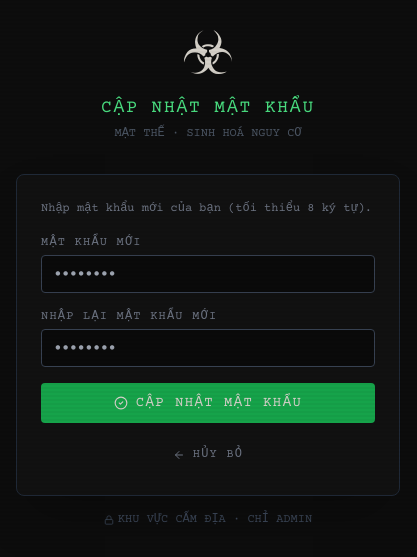
Test: AdminLoginPage Login & Recovery Flow › submits password update successfully and signs out
In the 1st password field with placeholder "••••••••": x=208, y=274 [41, 255, 375, 293], type "validpassword123"
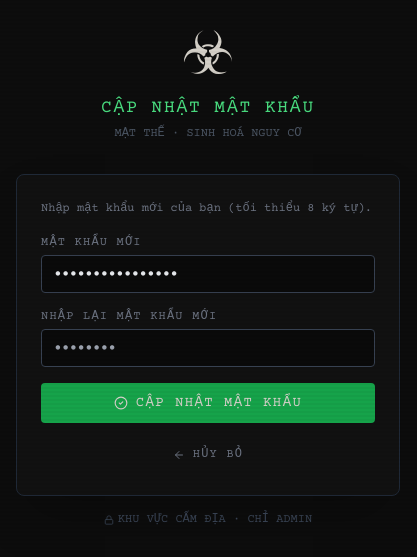
In the password field with placeholder "••••••••": x=208, y=348 [41, 329, 375, 367], type "validpassword123"
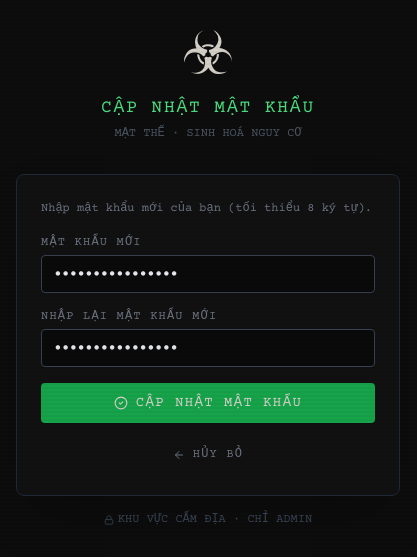
Click the button "CẬP NHẬT MẬT KHẨU": x=208, y=403 [41, 383, 375, 423]
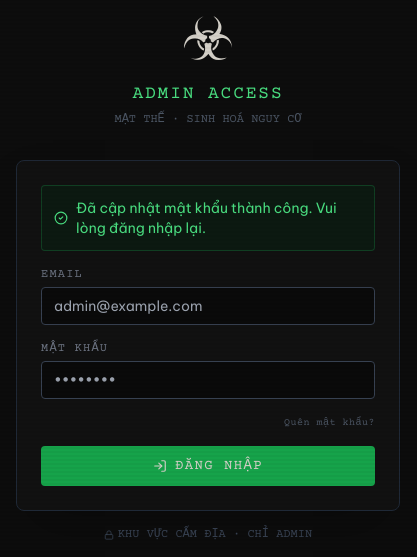
Expected: the text "Đã cập nhật mật khẩu thành công. Vui lòng đăng nhập lại." is shown, [76, 198, 362, 238]
Expected: the heading "ADMIN ACCESS" is shown, [132, 84, 284, 104]
